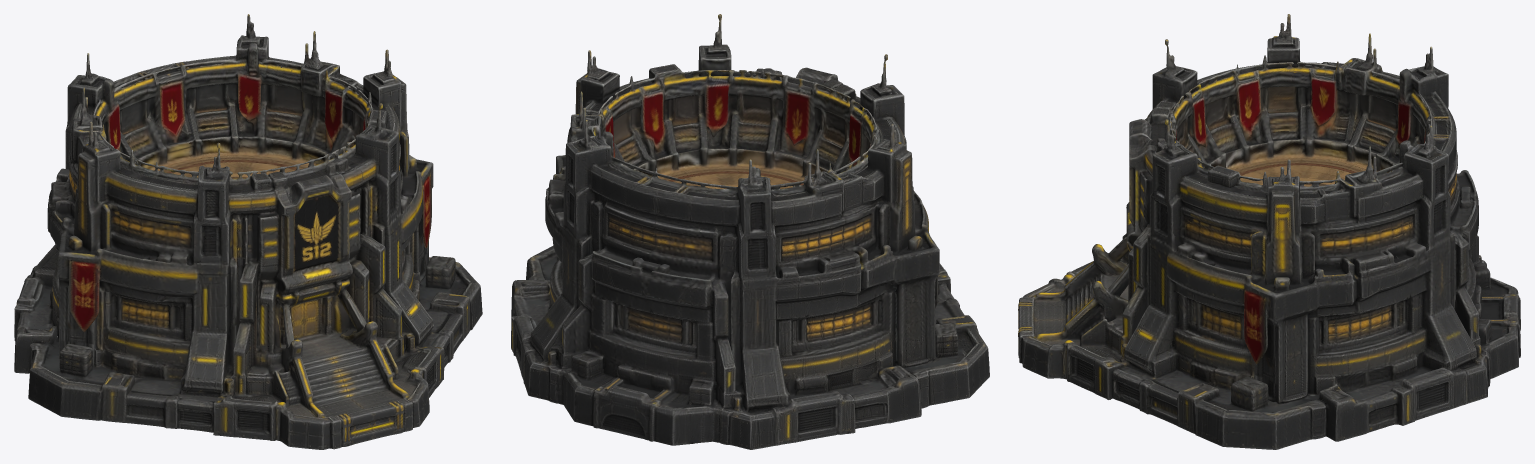
Rendered from Meshy_AI_S12_Citadel_1011160330_texture.glb.
3 renders of one model, left to right at view 1: azimuth 30°, elevation 25°; view 2: azimuth 150°, elevation 25°; view 3: azimuth 270°, elevation 25°, orthographic. The views are drawn at different scales.
Bounding box in the file's own units: 1.9 × 1.1 × 1.89.
1 material, 1 textured.
